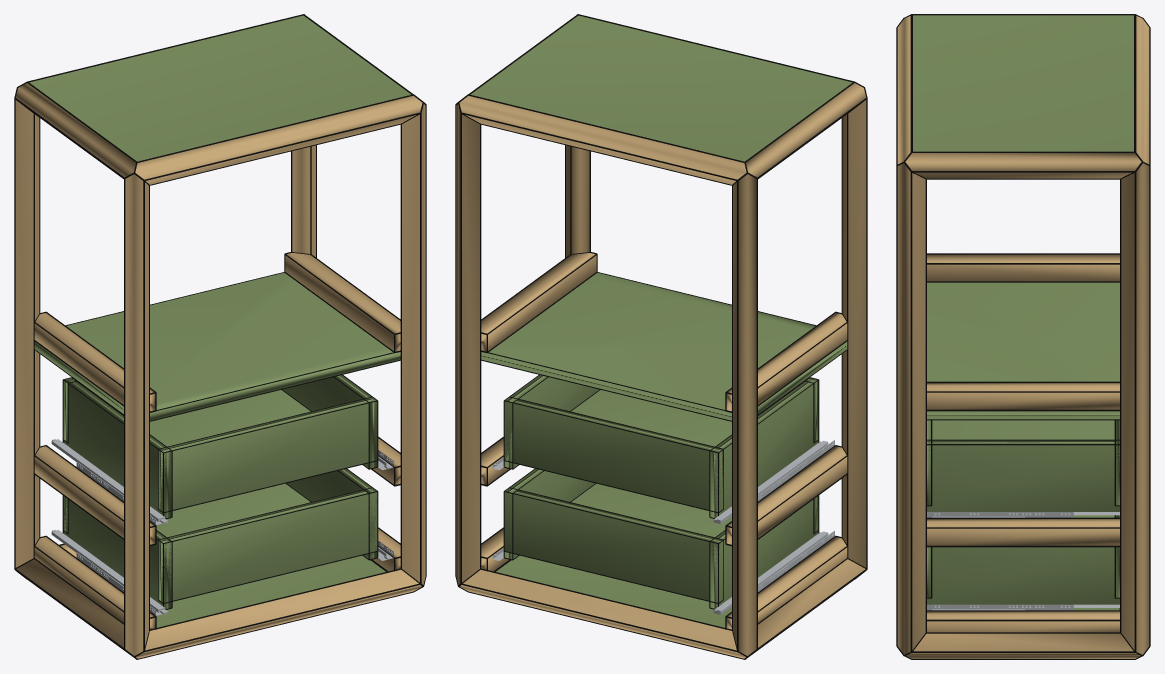
The model's file is 004-commode.glb.
3 views of the same model, side by side, from view 1: azimuth 30°, elevation 25°; view 2: azimuth 150°, elevation 25°; view 3: azimuth 270°, elevation 25° (orthographic). The views are drawn at different scales.
Parts seen in each view (by area): view 1: panneau-dessus_exterieur, tablette-plate-mod-0, drawer-box-fond-mod-1, drawer-box-fond-mod-2, arete-Z0, arete-Z1, arete-Z2, arete-X2, arete-X0, drawer-box-joue_g-mod-2, panneau-dessous, drawer-box-dessous-mod-2 (+28 smaller); view 2: panneau-dessus_exterieur, tablette-plate-mod-0, drawer-box-arriere-mod-2, drawer-box-arriere-mod-1, arete-Z2, arete-Z3, arete-Z0, arete-X3, arete-X1, drawer-box-joue_g-mod-2, panneau-dessous, drawer-box-dessous-mod-2 (+29 smaller); view 3: panneau-dessus_exterieur, tablette-plate-mod-0, arete-Z1, arete-Z3, drawer-box-joue_d-mod-2, drawer-box-joue_d-mod-1, arete-Y3, arete-Y1, tablette-traverse-left-mod-0, tablette-traverse-right-mod-0, drawer-tr-drawer-traverse-right-mod-2, drawer-tr-drawer-traverse-right-mod-1 (+18 smaller).
Boxes of the visible parts, x1,y1,x2,y2 form: panneau-dessus_exterieur: [29, 15, 411, 161]; tablette-plate-mod-0: [34, 272, 400, 420]; drawer-box-fond-mod-1: [158, 490, 377, 601]; drawer-box-fond-mod-2: [158, 398, 375, 509]; arete-Z0: [125, 174, 148, 655]; arete-Z1: [402, 104, 425, 584]; arete-Z2: [15, 100, 39, 567]; arete-X2: [135, 95, 422, 184]; arete-X0: [136, 570, 421, 658]; drawer-box-joue_g-mod-2: [63, 379, 171, 518]; panneau-dessous: [156, 555, 385, 627]; drawer-box-dessous-mod-2: [150, 390, 310, 446]; panneau-dessus_exterieur: [470, 15, 852, 161]; tablette-plate-mod-0: [481, 272, 847, 420]; drawer-box-arriere-mod-2: [504, 399, 723, 511]; drawer-box-arriere-mod-1: [504, 490, 723, 600]; arete-Z2: [733, 174, 756, 655]; arete-Z3: [456, 104, 479, 584]; arete-Z0: [842, 100, 866, 567]; arete-X3: [459, 95, 746, 184]; arete-X1: [460, 570, 745, 658]; drawer-box-joue_g-mod-2: [710, 380, 818, 517]; panneau-dessous: [496, 555, 731, 627]; drawer-box-dessous-mod-2: [571, 390, 731, 446]; panneau-dessus_exterieur: [913, 15, 1133, 151]; tablette-plate-mod-0: [927, 282, 1119, 419]; arete-Z1: [897, 163, 925, 654]; arete-Z3: [1121, 163, 1149, 654]; drawer-box-joue_d-mod-2: [927, 440, 1119, 511]; drawer-box-joue_d-mod-1: [927, 547, 1119, 604]; arete-Y3: [905, 153, 1141, 178]; arete-Y1: [906, 633, 1140, 658]; tablette-traverse-left-mod-0: [927, 254, 1119, 281]; tablette-traverse-right-mod-0: [927, 383, 1119, 409]; drawer-tr-drawer-traverse-right-mod-2: [927, 519, 1119, 545]; drawer-tr-drawer-traverse-right-mod-1: [927, 611, 1119, 632].
Size of the model in its own units: 0.5238 by 0.8238 by 0.3738.
